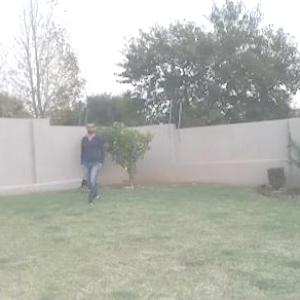follow: (80, 118, 106, 205)
